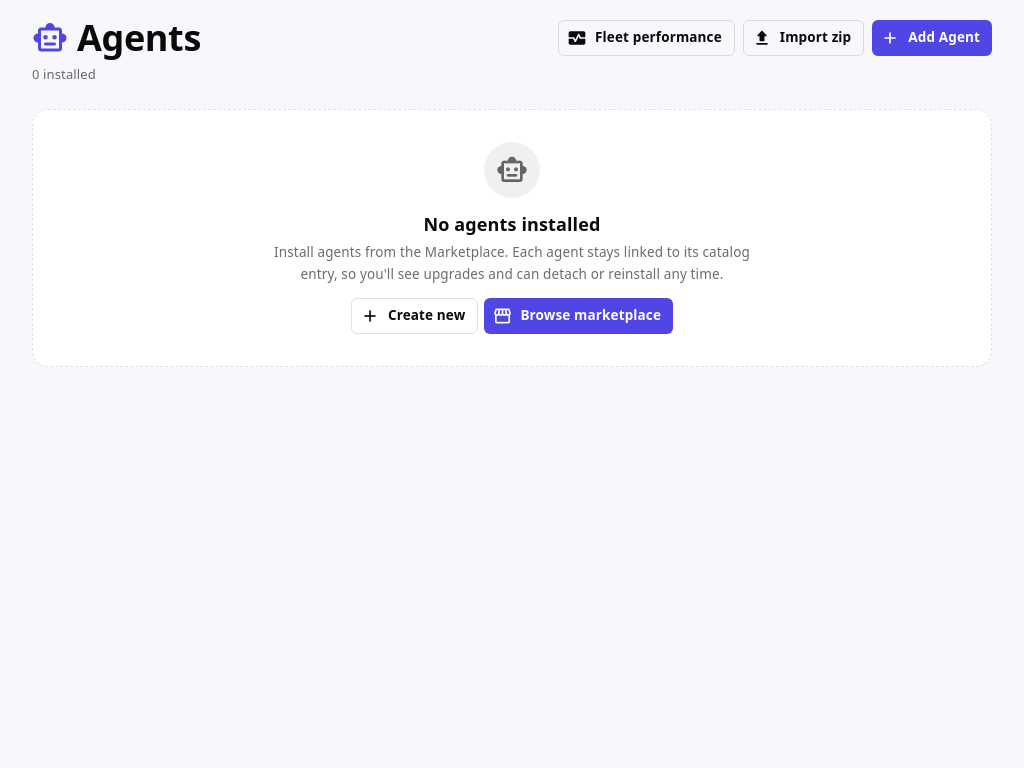
Test: Agents page › submits the Add Agent form when name is typed and Add Agent button is clicked
The width and height of the screenshot is (1024, 768).
Check: the text "No agents installed" is shown, box left=424, top=212, right=601, bottom=236
Note: Open dialog via PageFab
Click the button "Add Agent" at (932,38), box left=872, top=20, right=992, bottom=56
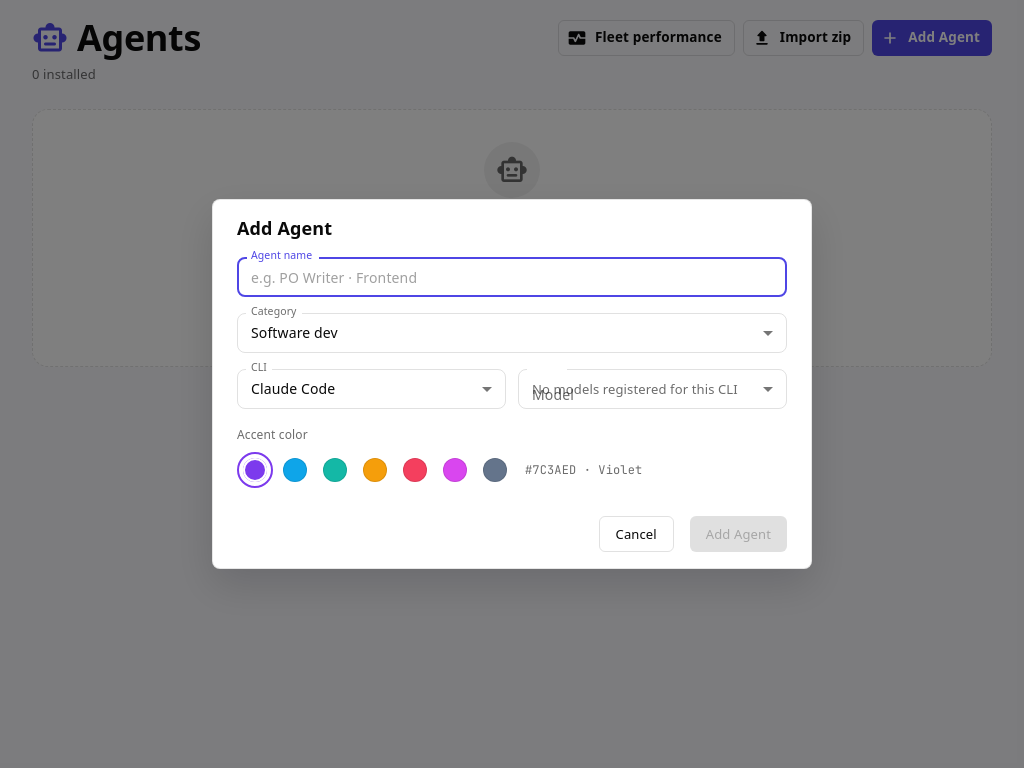
Check: the dialog is shown, box left=212, top=199, right=812, bottom=569
Note: Type agent name
Type "My Agent" into the field labelled "Agent name" at (512,277), box left=237, top=257, right=787, bottom=297
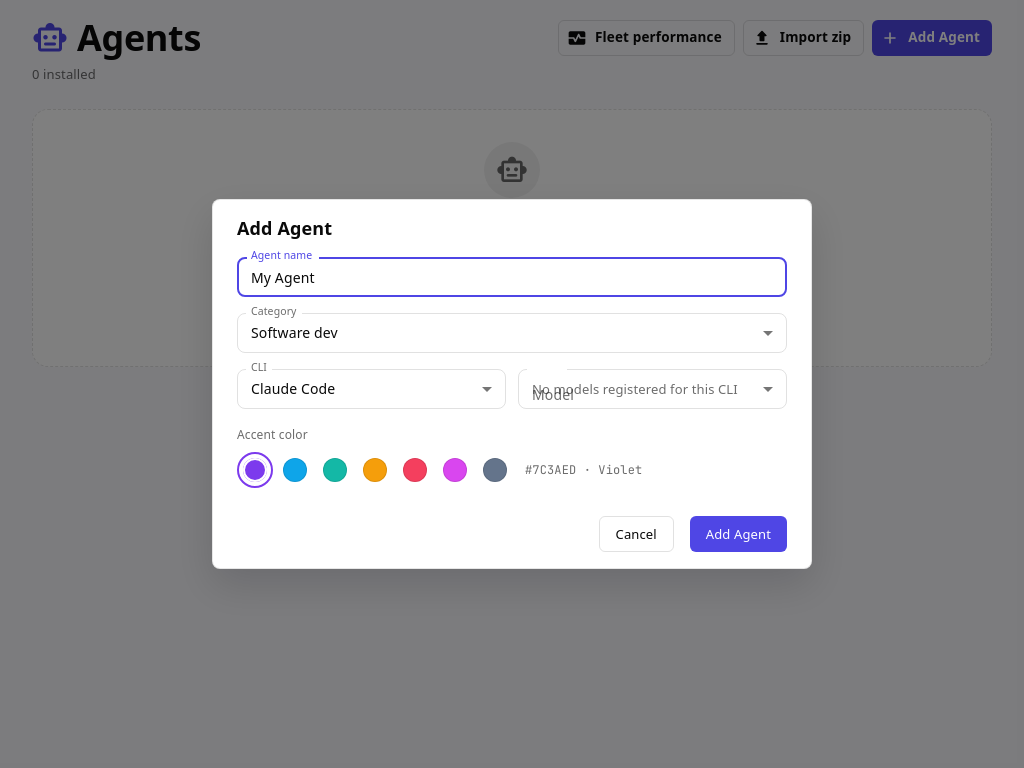
Click the button "Add Agent" at (738,534), box left=690, top=516, right=787, bottom=552
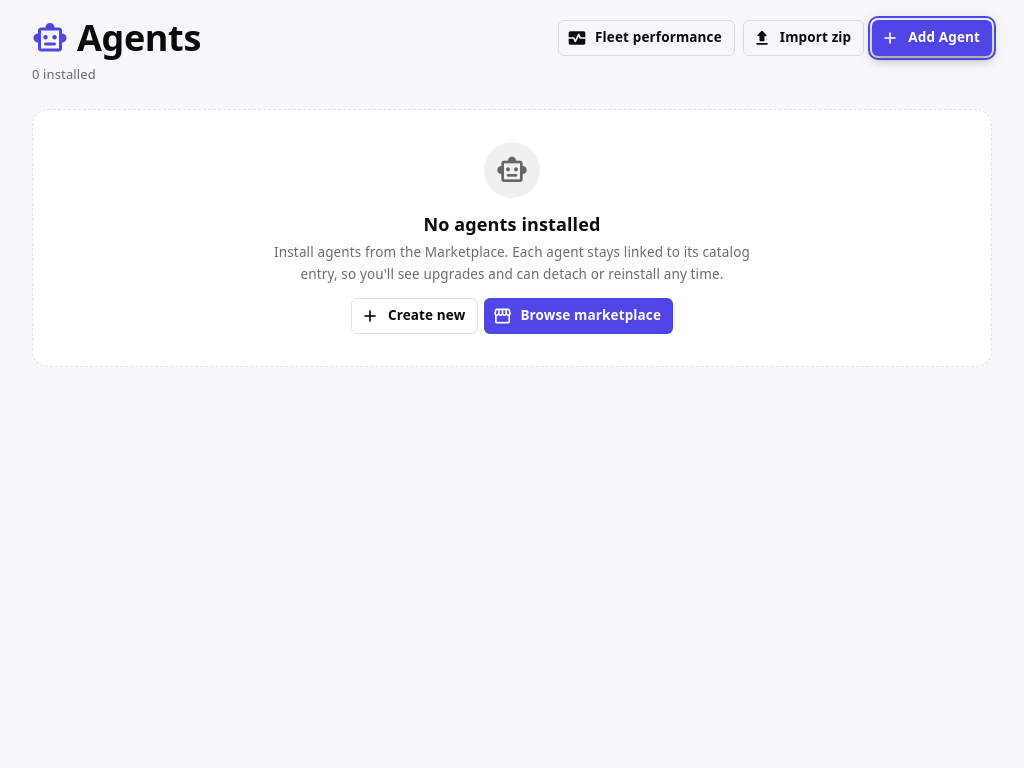
Check: the dialog is gone
